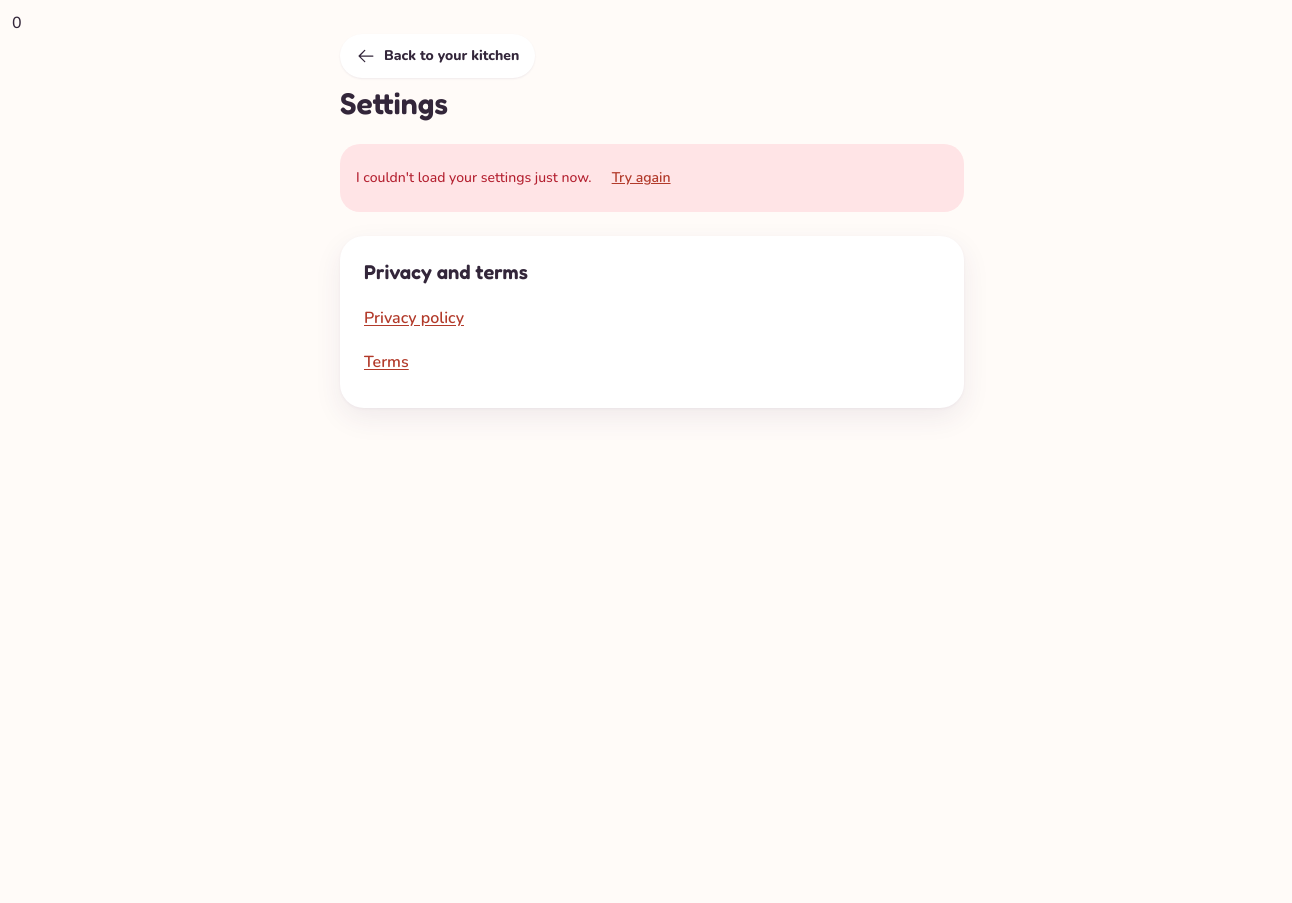
Test: Settings sections › a failed load shows Try again, which loads it (0018)
Expected: the message shows "I couldn't load your settings just now.", [356, 168, 592, 187]
What coordinates should you click on to do the following:
click the button "Try again"
I would click on:
 (641, 178)
Its box is [600, 156, 682, 200].
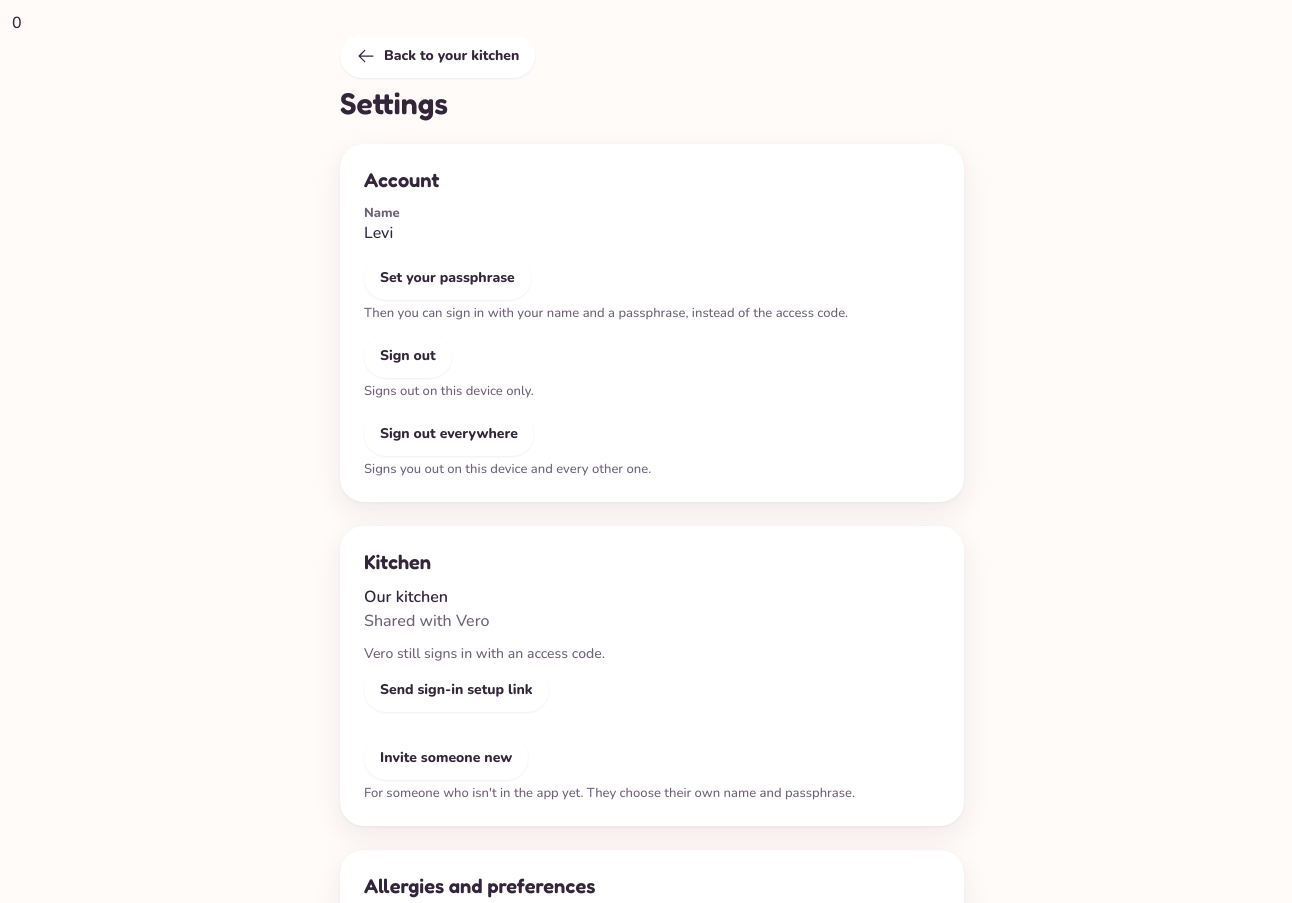
Expected: the text "Shared with Vero" is shown, [364, 610, 489, 632]
